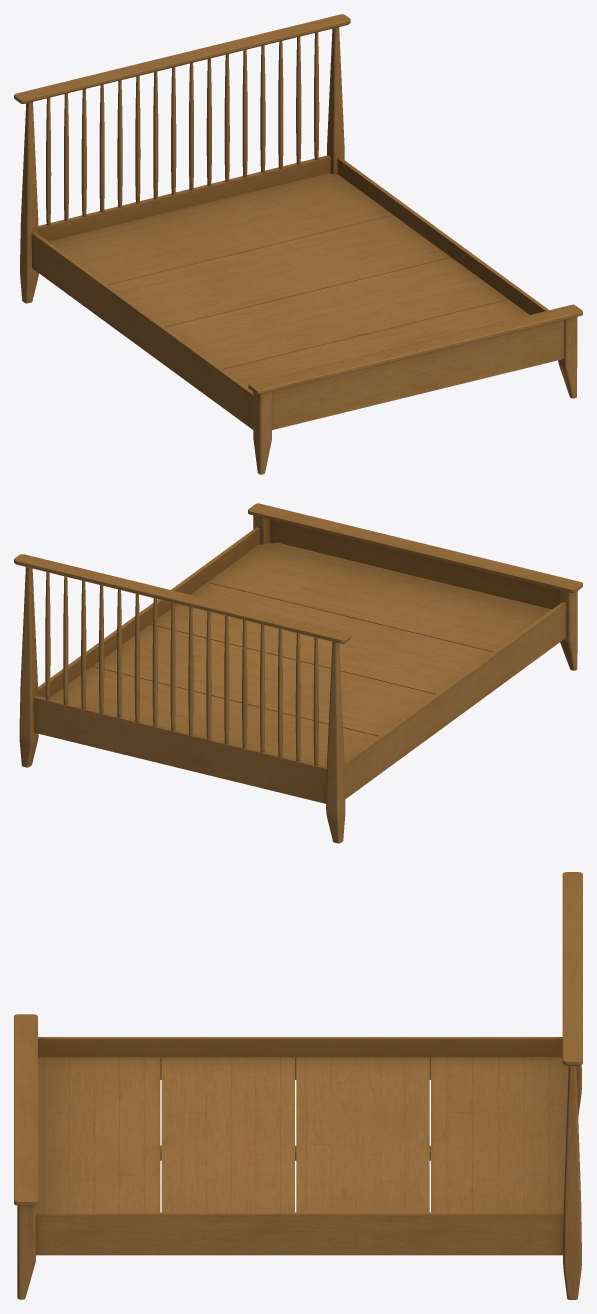
3 renders of one model, top to bottom at view 1: azimuth 30°, elevation 25°; view 2: azimuth 150°, elevation 25°; view 3: azimuth 270°, elevation 25°, orthographic. The views are drawn at different scales.
Visible parts, largest first — view 1: 2195711; view 2: 2195711; view 3: 2195711.
Boxes of the visible parts, x1=… form: 2195711: x1=14, y1=14, x2=582, y2=474; 2195711: x1=14, y1=503, x2=582, y2=843; 2195711: x1=14, y1=872, x2=582, y2=1299.
Size of what is drawn, in the model's own units: 1.68 by 1 by 2.13.
2 materials, 2 textured.
